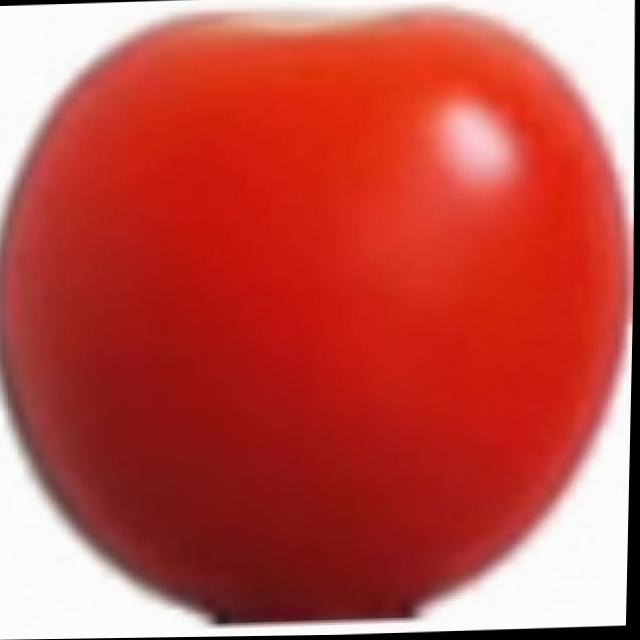tomato: (0, 5, 636, 634)
